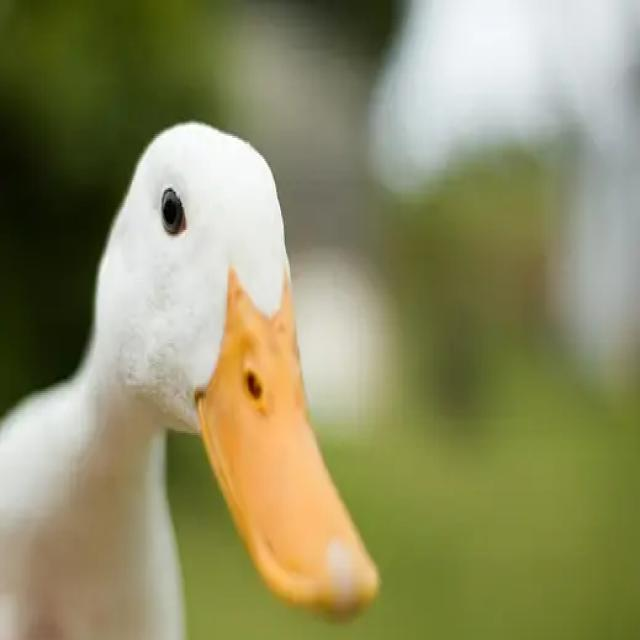ducks: (3, 107, 387, 640)
